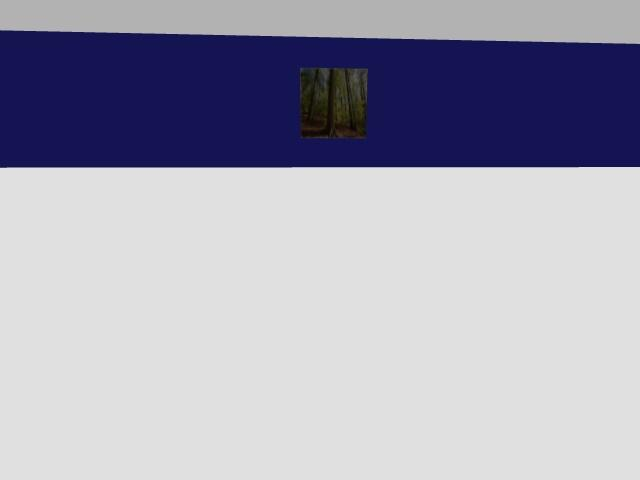tree: (343, 69, 355, 129), (325, 68, 335, 137), (307, 68, 319, 120), (357, 69, 366, 109)
